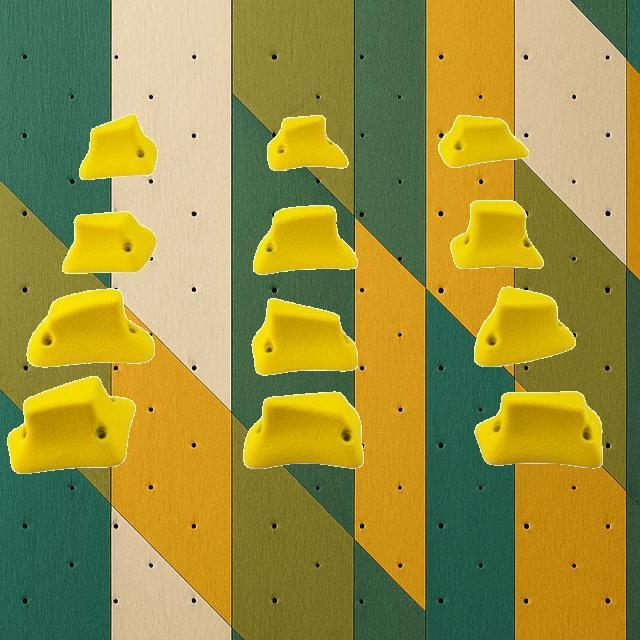Pinch: (7, 376, 135, 474), (26, 287, 154, 367), (475, 390, 603, 468), (243, 392, 363, 468), (251, 298, 357, 374), (474, 286, 574, 366), (252, 204, 358, 274), (451, 200, 543, 268), (62, 211, 156, 273), (79, 113, 157, 179), (439, 114, 529, 166), (266, 114, 348, 170)
